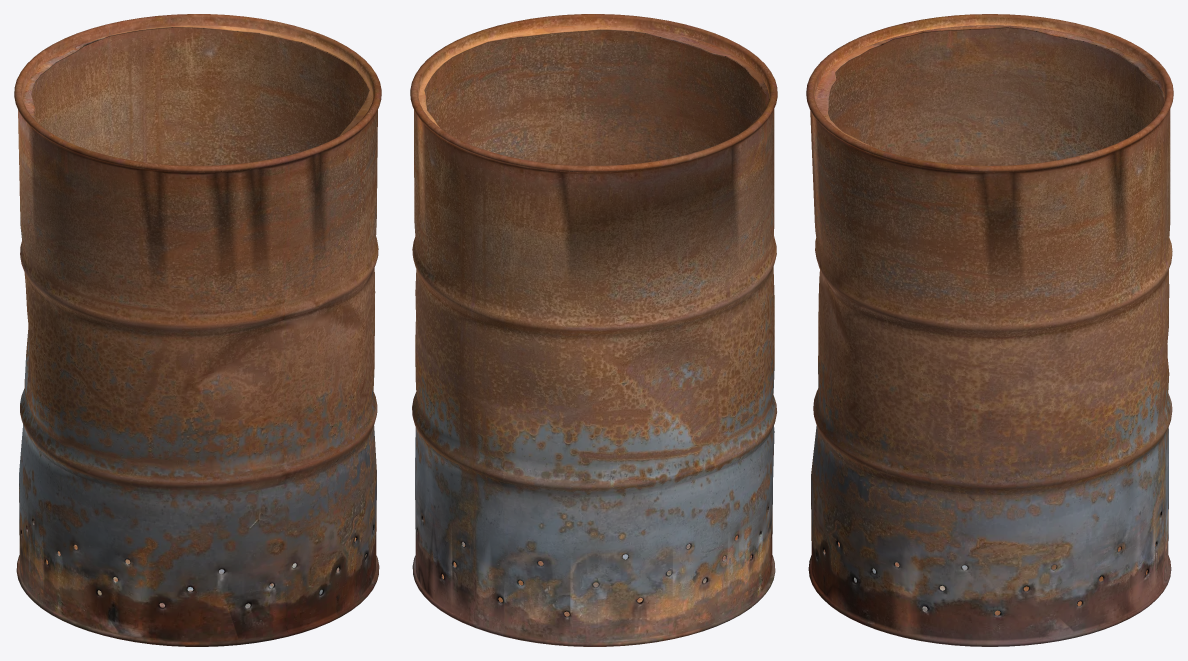
File: barrel_stove.glb
3 views of the same model, side by side, from view 1: azimuth 30°, elevation 25°; view 2: azimuth 150°, elevation 25°; view 3: azimuth 270°, elevation 25° (orthographic).
Parts seen in each view (by area): view 1: barrel_stove; view 2: barrel_stove; view 3: barrel_stove.
Part boxes in pixels (x1,y1,x2,y2): barrel_stove: (14,14,381,646); barrel_stove: (410,14,777,646); barrel_stove: (806,14,1173,646).
Bounding box in the file's own units: 0.5926 × 0.8556 × 0.5926.
1 material, 1 textured.
